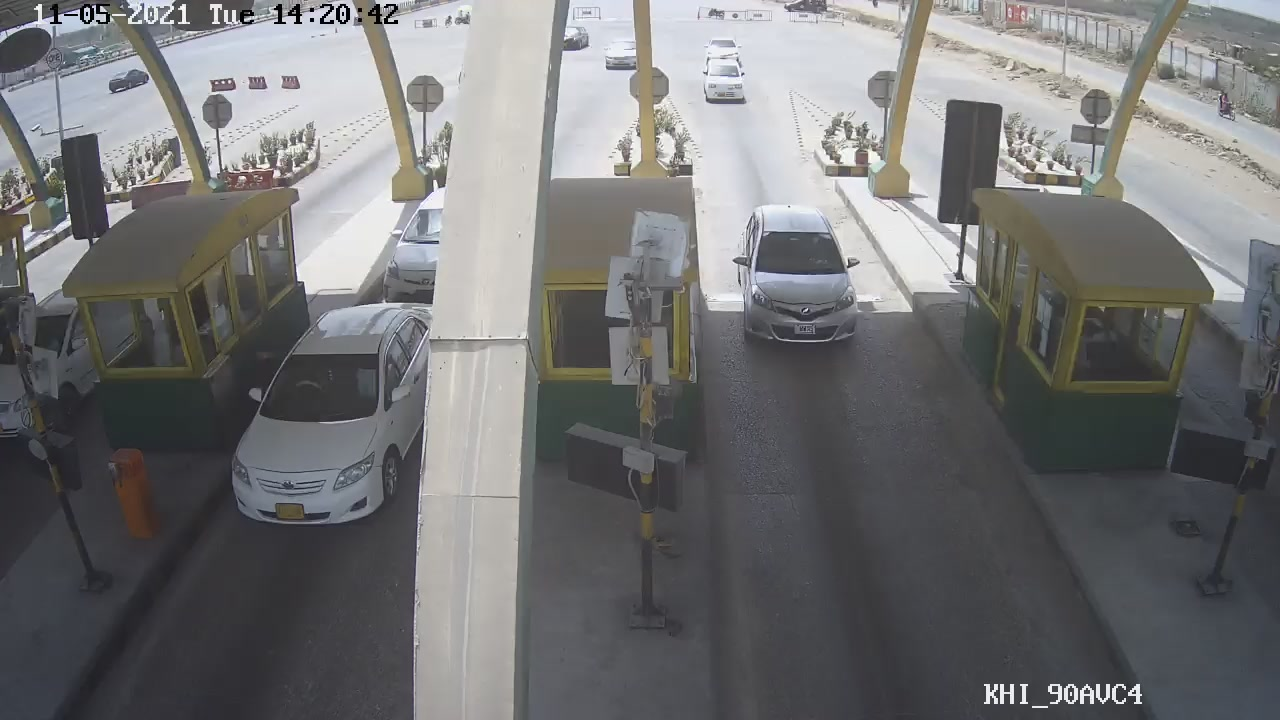F1: (729, 206, 870, 356)
